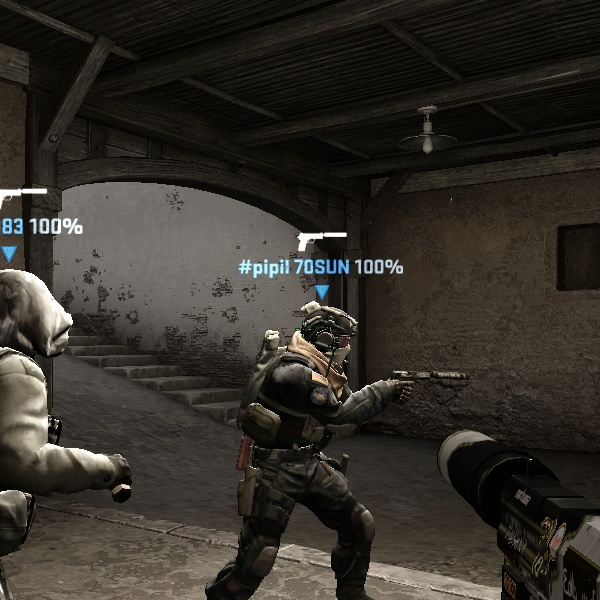ct_body: (217, 294, 408, 599)
ct_head: (291, 299, 365, 370)
